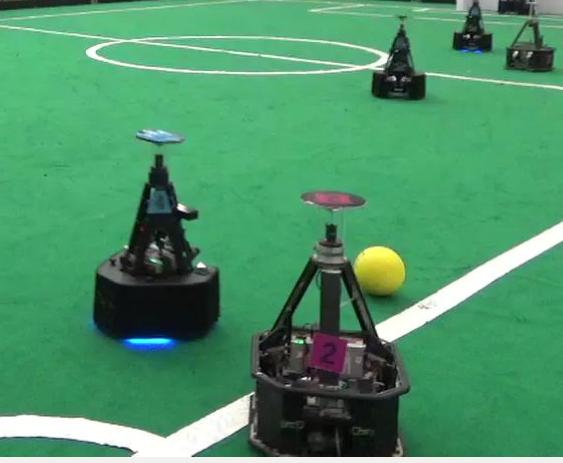robot: (246, 185, 413, 457), (86, 124, 225, 346), (370, 14, 431, 102), (499, 1, 560, 75), (449, 1, 495, 54)
